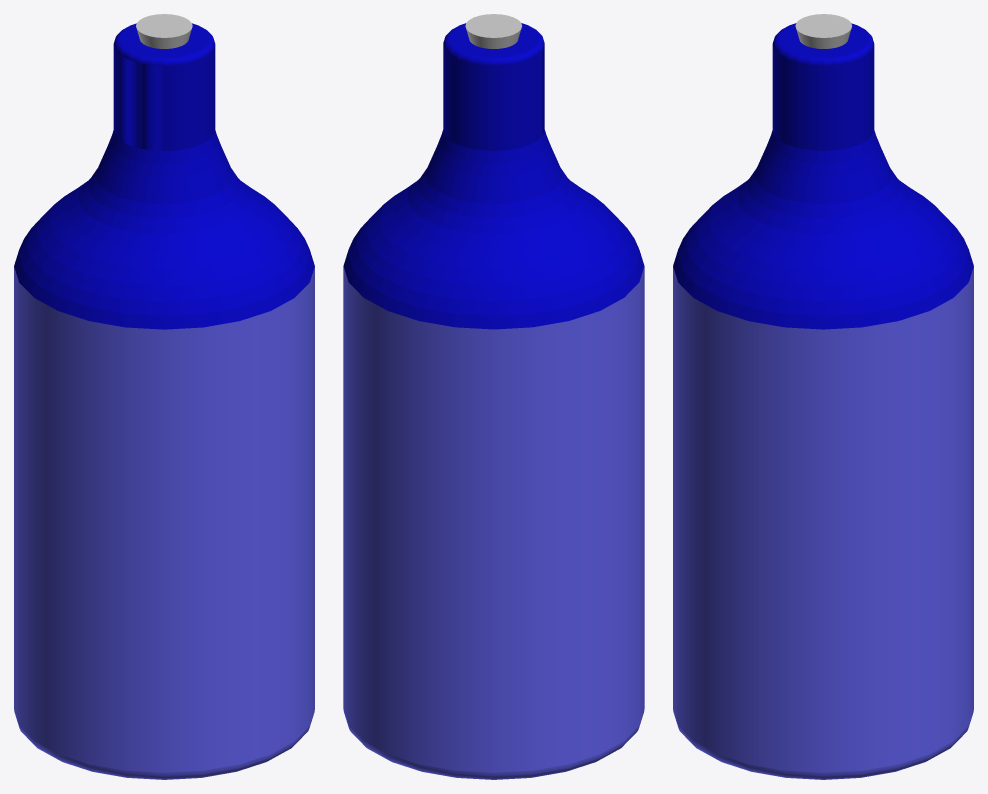
3 renders of one model, left to right at view 1: azimuth 30°, elevation 25°; view 2: azimuth 150°, elevation 25°; view 3: azimuth 270°, elevation 25°, orthographic.
Parts seen in each view (by area): view 1: mesh1_mesh1-geometry, mesh3_mesh3-geometry, mesh4_mesh4-geometry; view 2: mesh1_mesh1-geometry, mesh3_mesh3-geometry, mesh4_mesh4-geometry; view 3: mesh1_mesh1-geometry, mesh3_mesh3-geometry, mesh4_mesh4-geometry.
Boxes of the visible parts, x1,y1,x2,y2 form: mesh1_mesh1-geometry: (14, 266, 314, 779); mesh3_mesh3-geometry: (14, 23, 314, 329); mesh4_mesh4-geometry: (136, 14, 192, 48); mesh1_mesh1-geometry: (343, 266, 644, 779); mesh3_mesh3-geometry: (343, 23, 644, 329); mesh4_mesh4-geometry: (465, 14, 521, 48); mesh1_mesh1-geometry: (673, 266, 973, 779); mesh3_mesh3-geometry: (673, 23, 973, 329); mesh4_mesh4-geometry: (795, 14, 851, 48).
Size of the model in its own units: 0.3433 by 0.8742 by 0.3433.
